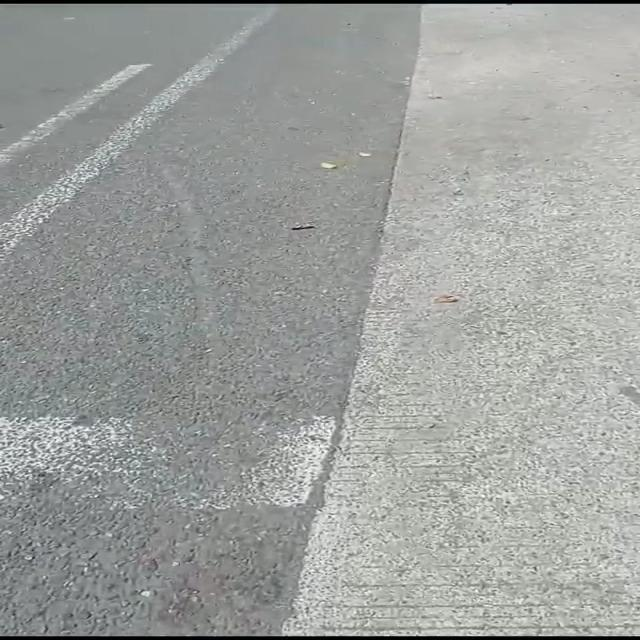Sambungan: (292, 0, 640, 640)
